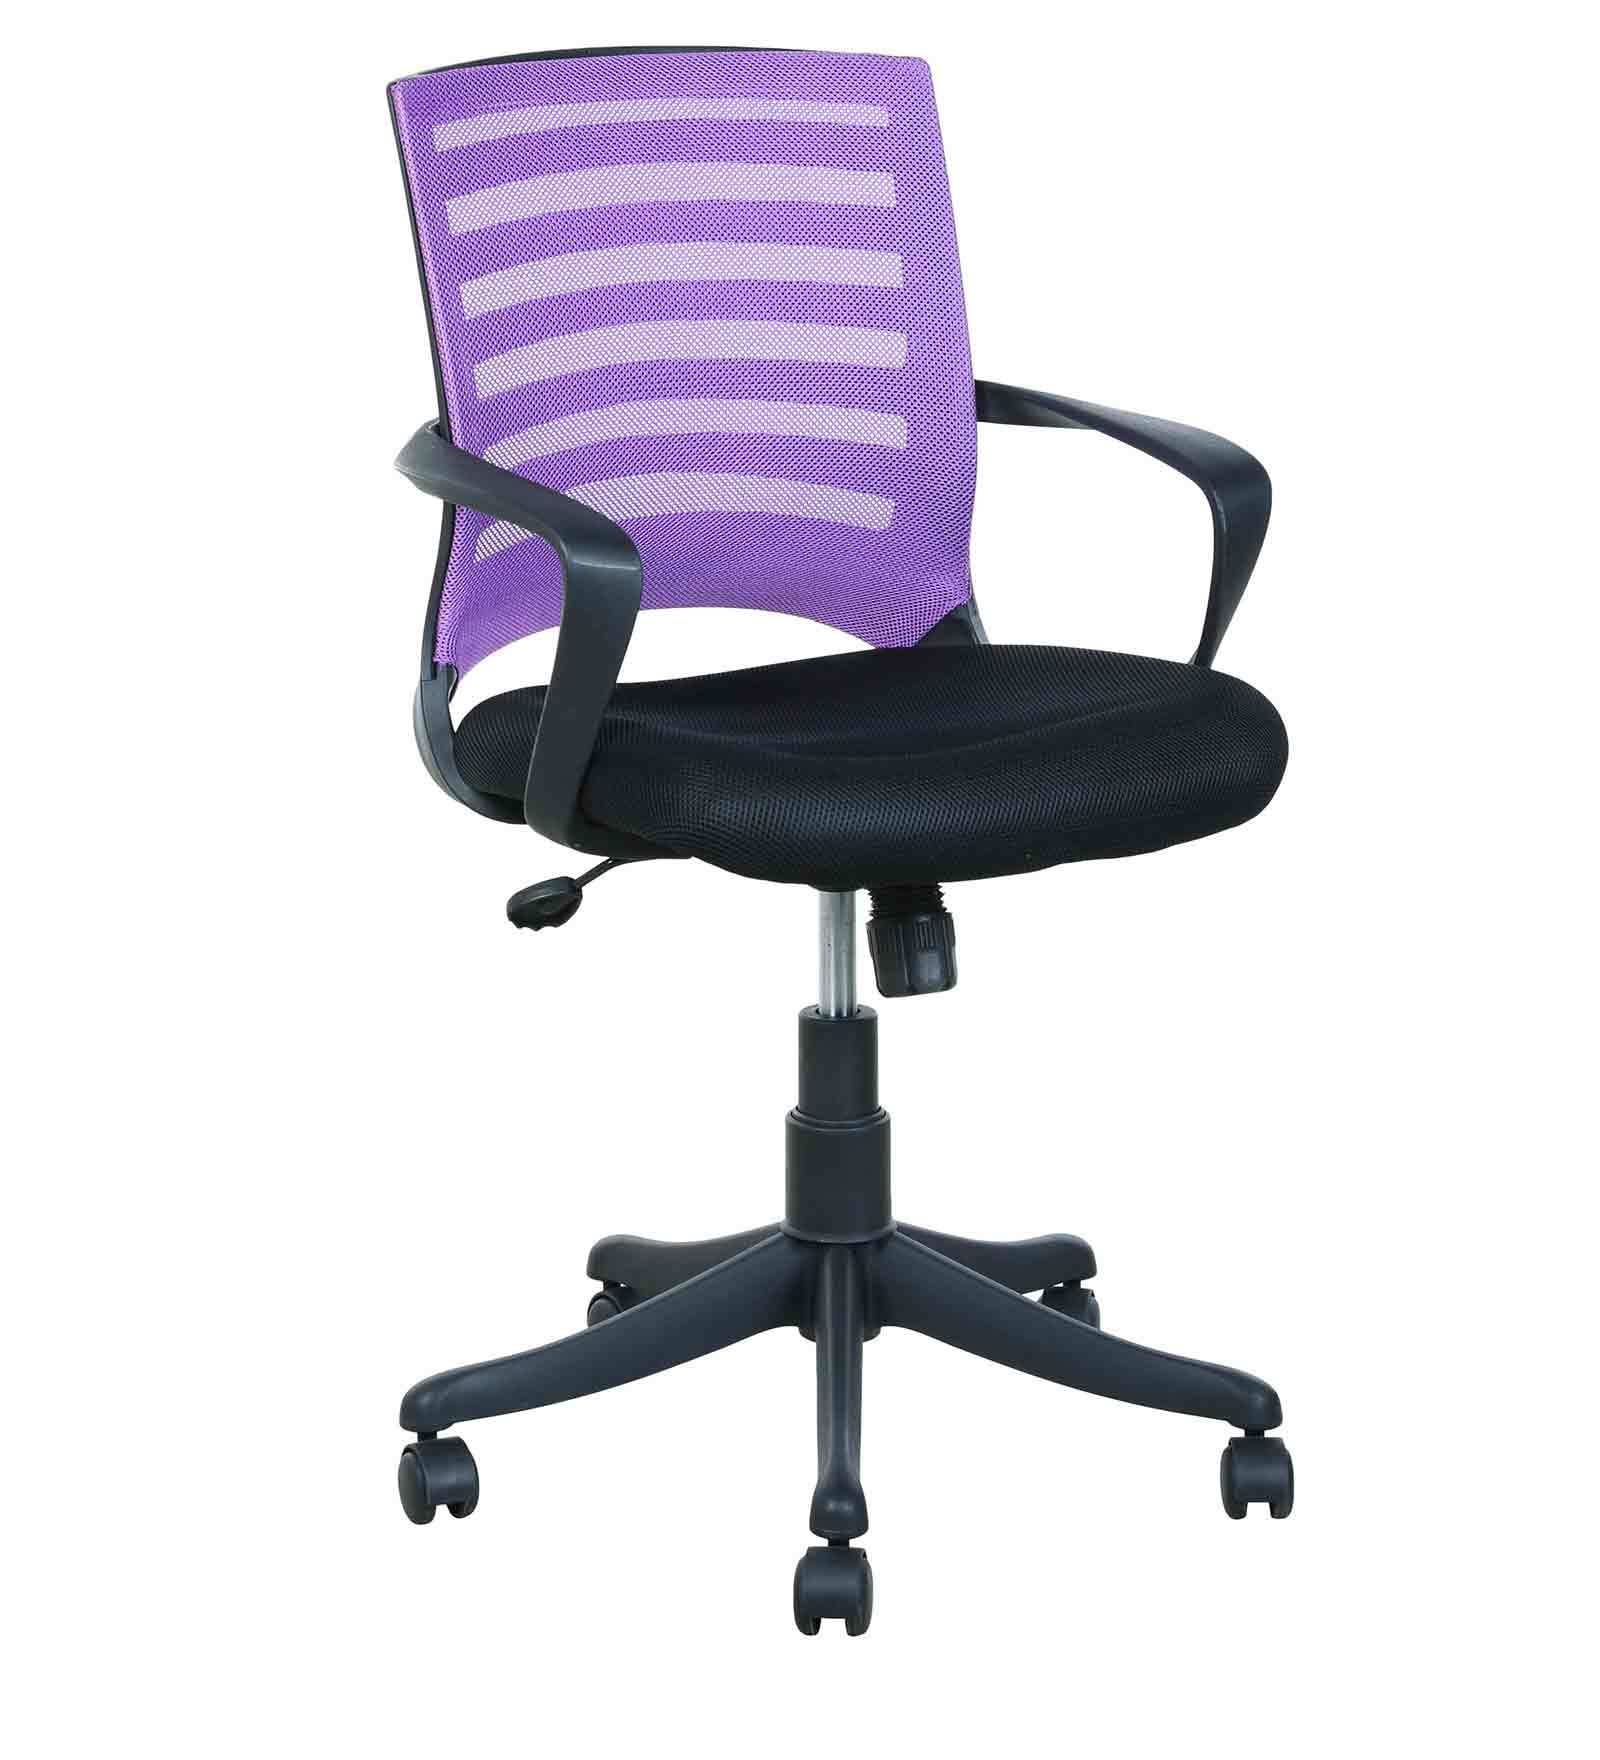Trendy Ergonomic Chair in Purple Colour by Parin: (300, 18, 1326, 1685)
